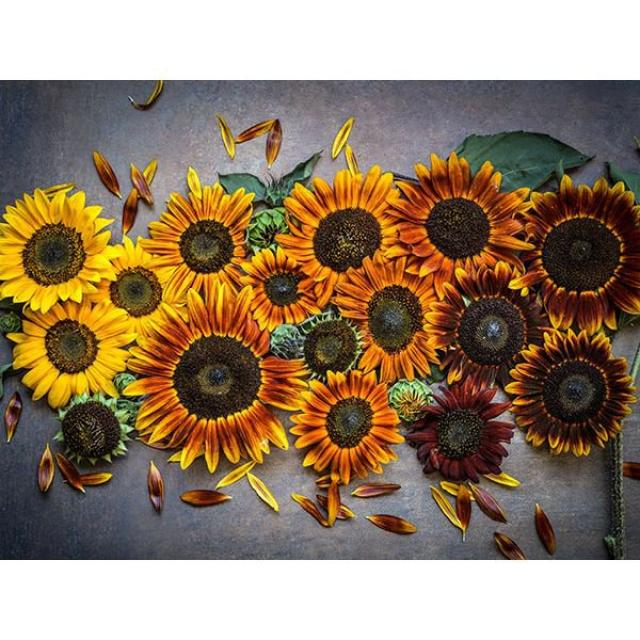sunflower: (122, 282, 308, 472), (510, 173, 639, 333), (387, 151, 532, 290), (275, 165, 404, 306), (504, 327, 637, 458), (423, 259, 546, 388), (139, 168, 255, 298), (0, 182, 114, 312), (5, 298, 134, 408), (332, 252, 442, 378), (289, 368, 403, 484), (403, 376, 515, 483), (86, 236, 184, 337), (238, 245, 320, 330)
